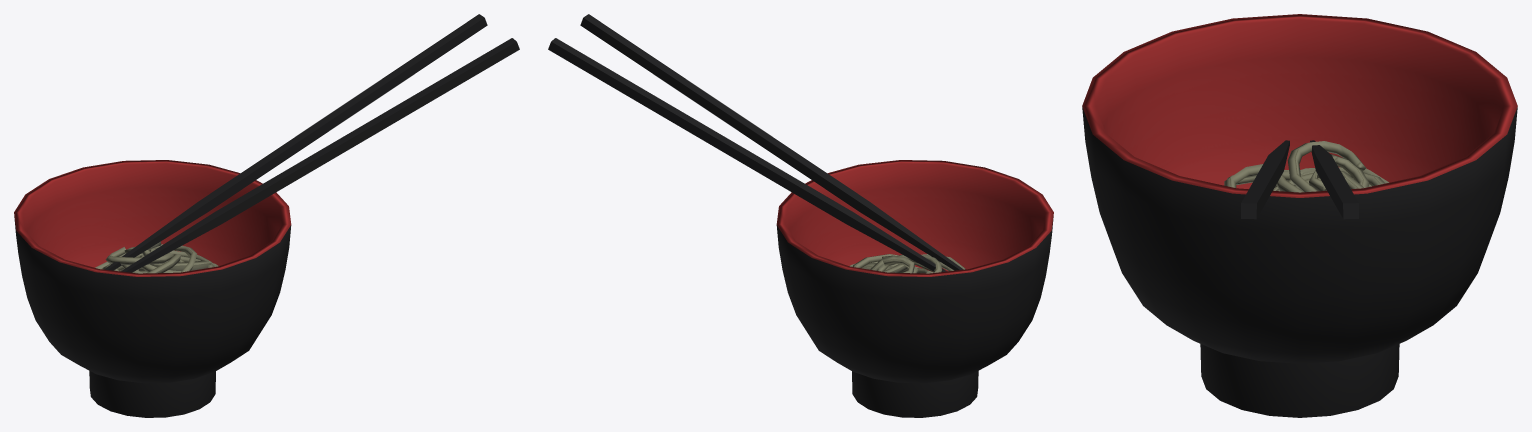
The model's file is SM_Soba_Chopsticks_Bowl.fbx.
3 renders of one model, left to right at view 1: azimuth 30°, elevation 25°; view 2: azimuth 150°, elevation 25°; view 3: azimuth 270°, elevation 25°, orthographic. The views are drawn at different scales.
Visible parts, largest first — view 1: SM_SobaBowl1, SM_Chopsticks_02, SM_Chopsticks_01, SM_Soba1; view 2: SM_SobaBowl1, SM_Chopsticks_02, SM_Chopsticks_01, SM_Soba1; view 3: SM_SobaBowl1, SM_Soba1, SM_Chopsticks_02, SM_Chopsticks_01.
Boxes of the visible parts, x1,y1,x2,y2 form: SM_SobaBowl1: (14,160,291,417); SM_Chopsticks_02: (121,38,519,272); SM_Chopsticks_01: (104,14,487,270); SM_Soba1: (95,241,218,273); SM_SobaBowl1: (776,160,1053,417); SM_Chopsticks_02: (580,14,963,270); SM_Chopsticks_01: (548,38,946,271); SM_Soba1: (849,254,965,273); SM_SobaBowl1: (1082,14,1517,417); SM_Soba1: (1224,141,1388,192); SM_Chopsticks_02: (1241,140,1289,219); SM_Chopsticks_01: (1310,140,1358,219).
Bounding box in the file's own units: 26.77 × 15.22 × 13.77.
